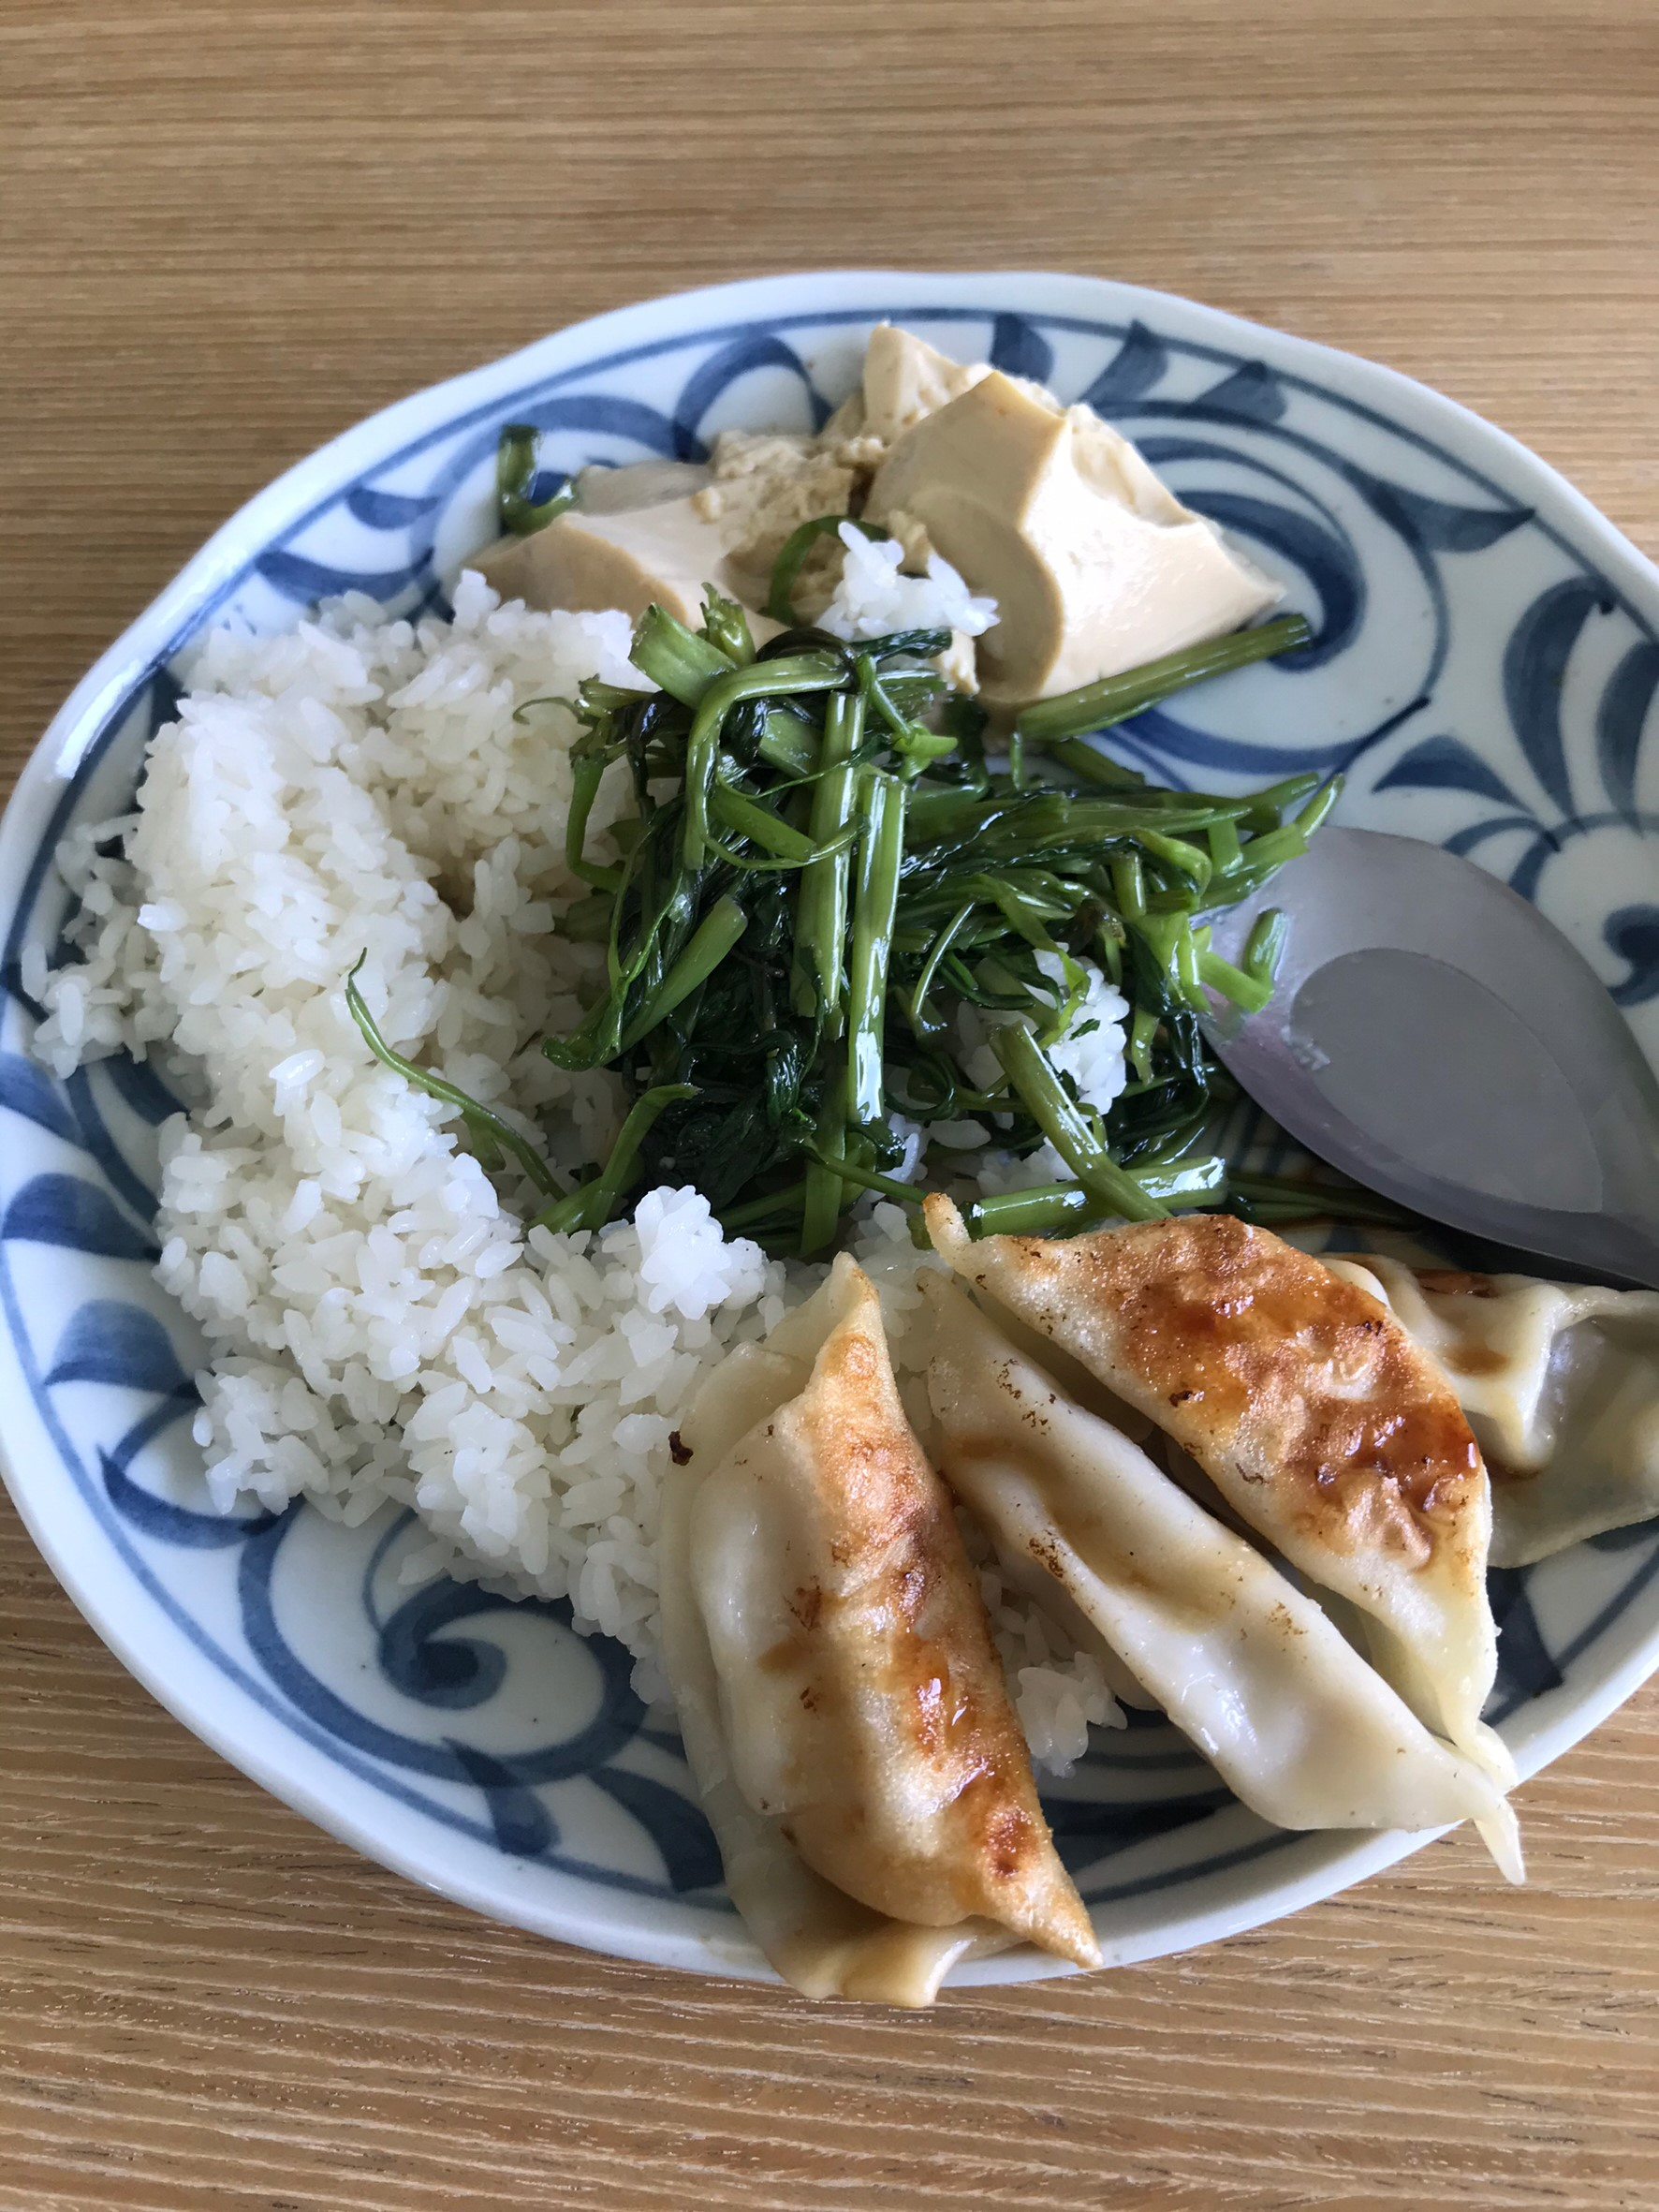fried_dumplings: (662, 1234, 1659, 1968)
rice: (145, 575, 568, 1482)
water_spinach: (648, 673, 1117, 1204)
